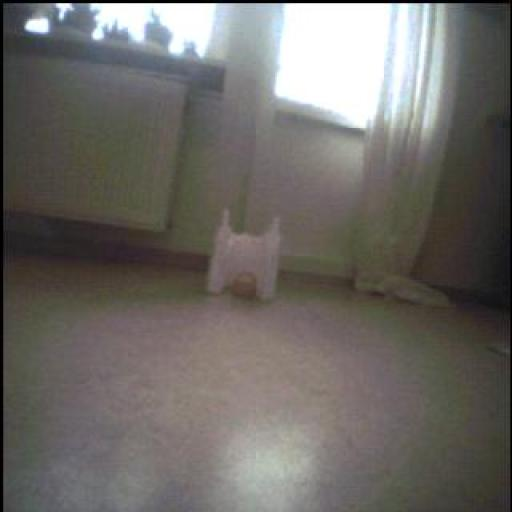Basket: (232, 271, 257, 300)
